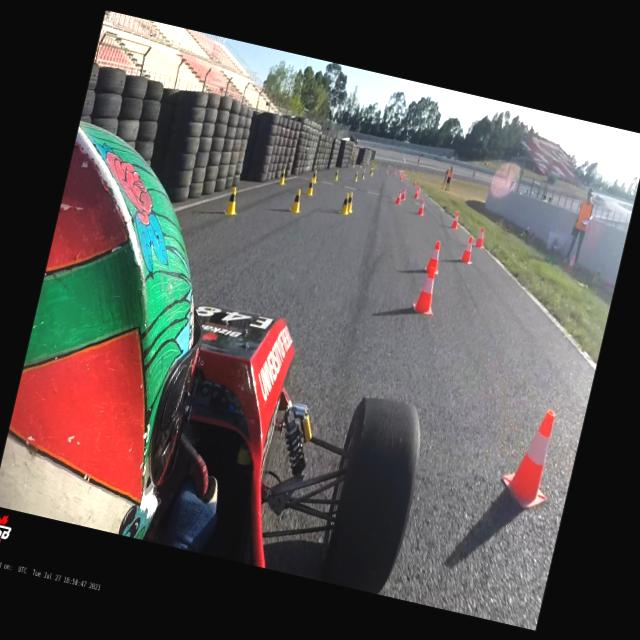orange_cone: (496, 403, 566, 513), (411, 265, 442, 315), (423, 239, 444, 274), (458, 235, 477, 264), (472, 227, 486, 248), (449, 211, 461, 230), (416, 199, 427, 216), (393, 190, 402, 204), (412, 187, 420, 200), (400, 188, 408, 200), (416, 185, 421, 194)
yellow_cone: (222, 185, 242, 216), (290, 187, 304, 213), (339, 192, 352, 215), (304, 176, 316, 196), (345, 192, 356, 212), (278, 168, 288, 185), (310, 168, 318, 184), (332, 168, 340, 182), (352, 172, 358, 182), (360, 170, 366, 180)
